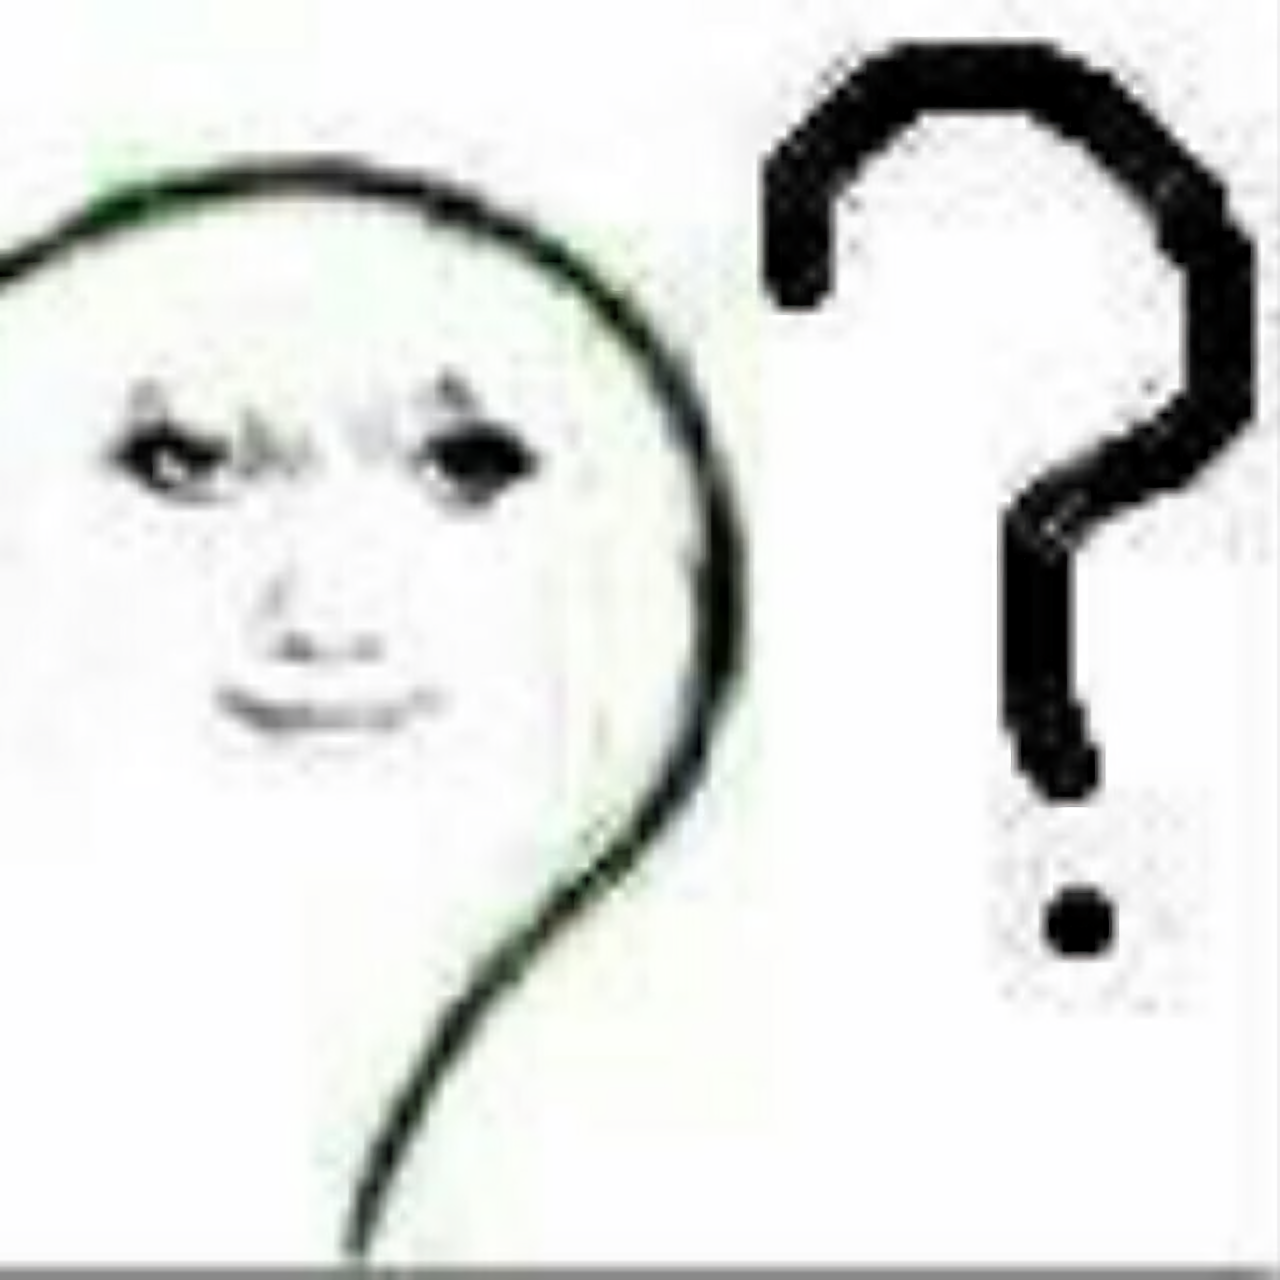dragon: (86, 349, 564, 783)
